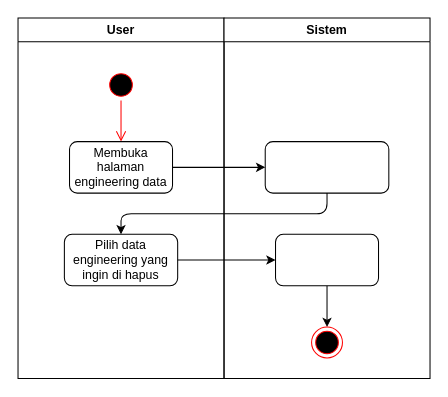
The diagram is 448 pixels wide and 397 high, and some of its shapes have lost their labels. The centre of each missing label's shape, as x and y in pixels:
"Menampilkan halaman engineering data" belongs at (x=326, y=167).
"Perubahan data tersimpan" belongs at (x=326, y=259).
